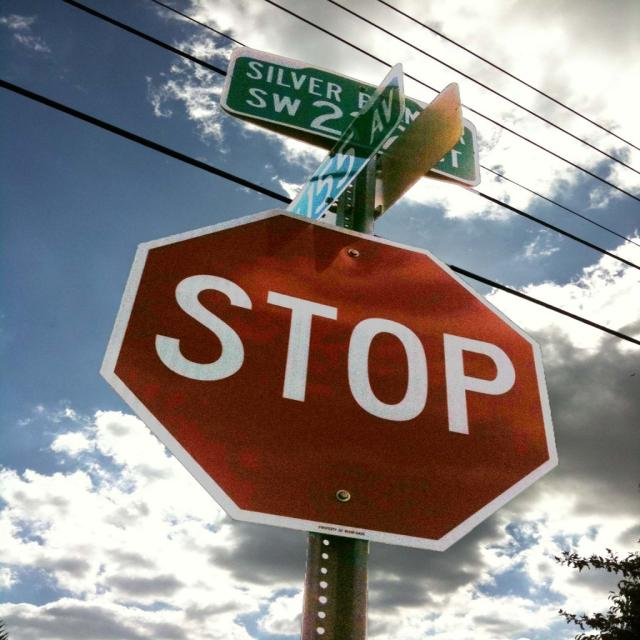Stop-sign: (101, 213, 556, 552)
